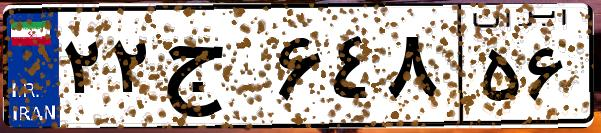2: (57, 26, 110, 100), (110, 28, 158, 98)
4: (330, 28, 385, 110)
5: (475, 38, 525, 113)
6: (270, 28, 330, 110), (525, 38, 570, 115)
8: (385, 28, 445, 110)
ج: (158, 20, 270, 120)
